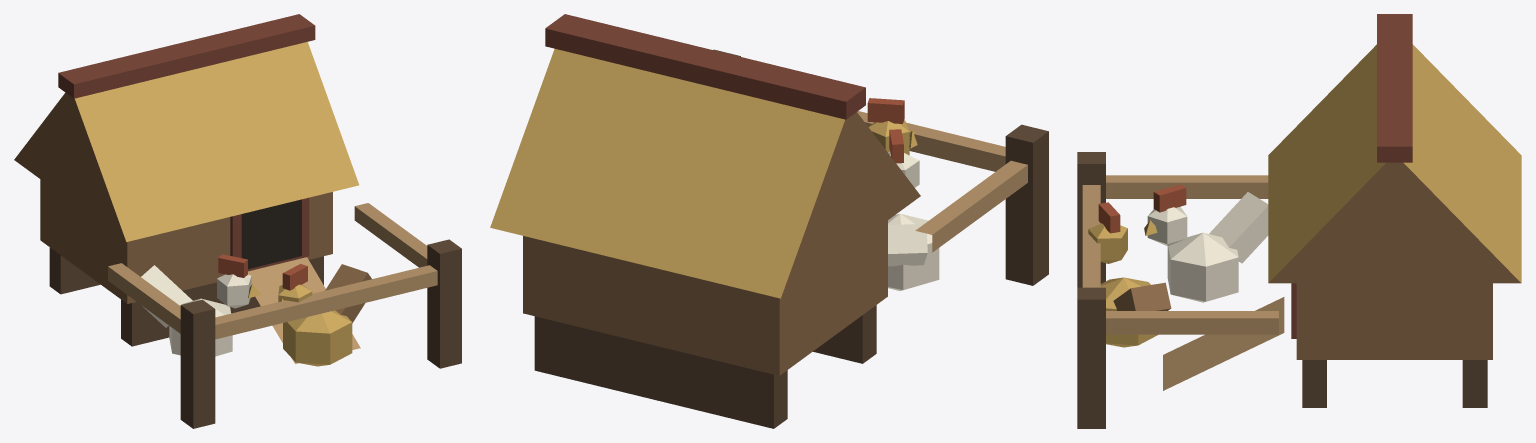
The model's file is prop-hen-coop.glb.
3 views of the same model, side by side, from view 1: azimuth 30°, elevation 25°; view 2: azimuth 150°, elevation 25°; view 3: azimuth 270°, elevation 25° (orthographic). The views are drawn at different scales.
Visible parts, largest first — view 1: prop-hen-coop; view 2: prop-hen-coop; view 3: prop-hen-coop.
Part boxes in pixels (x1,y1,x2,y2): prop-hen-coop: [14, 14, 461, 428]; prop-hen-coop: [490, 14, 1048, 428]; prop-hen-coop: [1077, 14, 1521, 428].
Bounding box in the file's own units: 1.96 × 1.7 × 2.49.
Materials: 1 (1 with a texture image).
